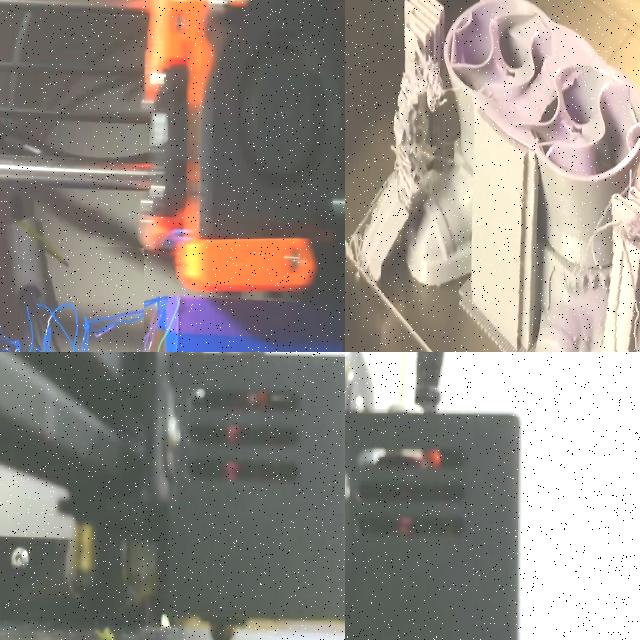spaghetti: (0, 241, 144, 352), (570, 199, 640, 352), (345, 200, 381, 348), (415, 56, 453, 114), (477, 0, 500, 14)
